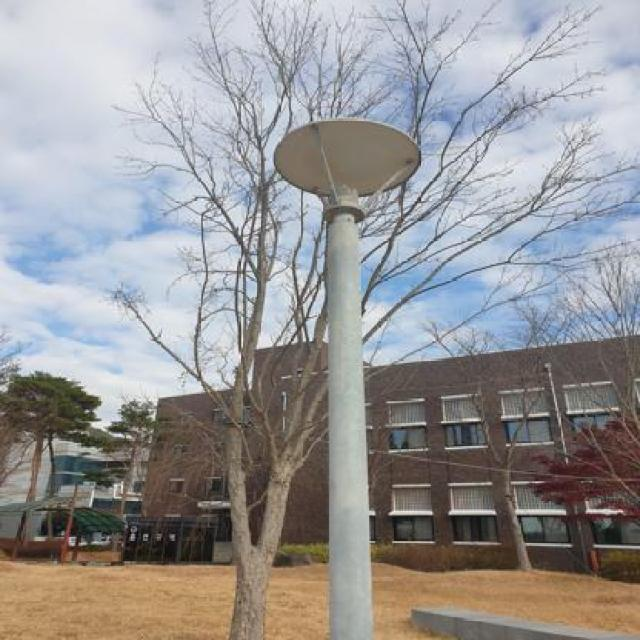pole: (306, 198, 394, 640)
